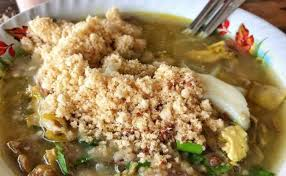soto: (2, 2, 281, 175)
